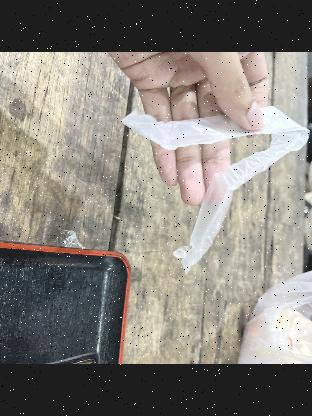Others: (116, 103, 312, 274), (236, 264, 312, 364)
